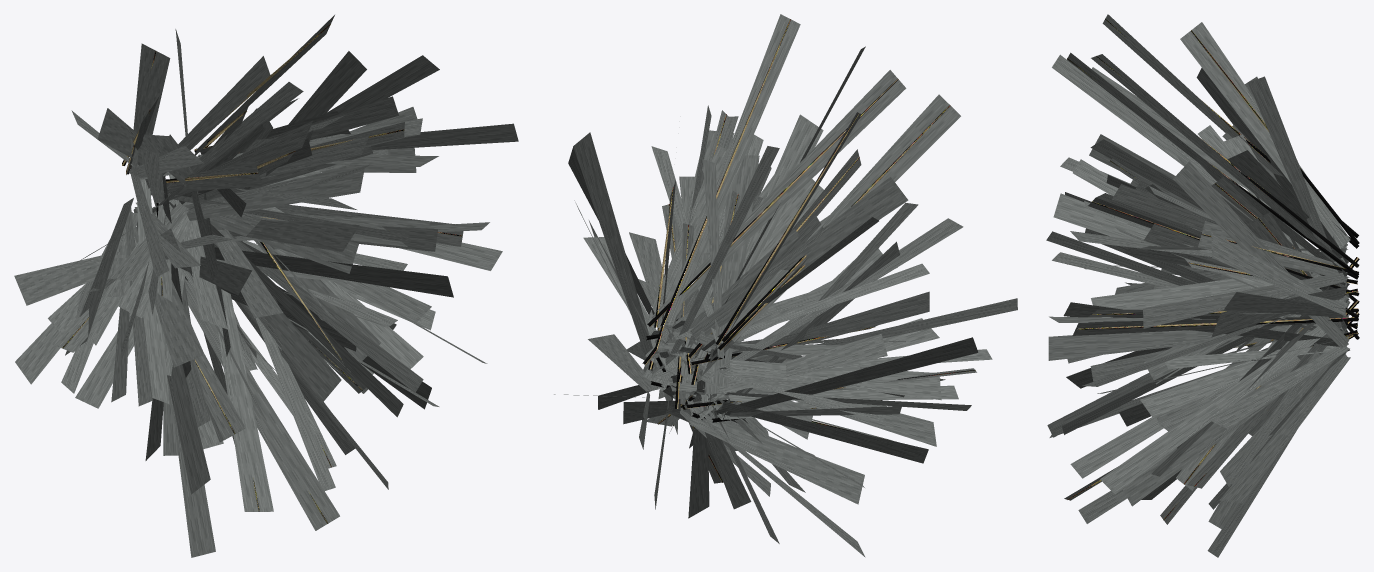
File: GRASS_local.glb
The picture shows the model from 3 angles, left to right: view 1: azimuth 30°, elevation 25°; view 2: azimuth 150°, elevation 25°; view 3: azimuth 270°, elevation 25°; orthographic projection. The views are drawn at different scales.
Visible parts, largest first — view 1: DryGrassBlades_AlphaMasked, SeedHeadStems_Detail; view 2: DryGrassBlades_AlphaMasked, SeedHeadStems_Detail; view 3: DryGrassBlades_AlphaMasked, SeedHeadStems_Detail.
Part boxes in pixels (bbox=[...]): DryGrassBlades_AlphaMasked: bbox=[14, 15, 518, 557]; SeedHeadStems_Detail: bbox=[62, 24, 462, 523]; DryGrassBlades_AlphaMasked: bbox=[554, 14, 1017, 557]; SeedHeadStems_Detail: bbox=[642, 19, 975, 482]; DryGrassBlades_AlphaMasked: bbox=[1046, 14, 1350, 557]; SeedHeadStems_Detail: bbox=[1067, 18, 1359, 520].
Size of the model in its own units: 0.6063 by 0.6603 by 0.3757.
Materials: 2 (2 with a texture image).
